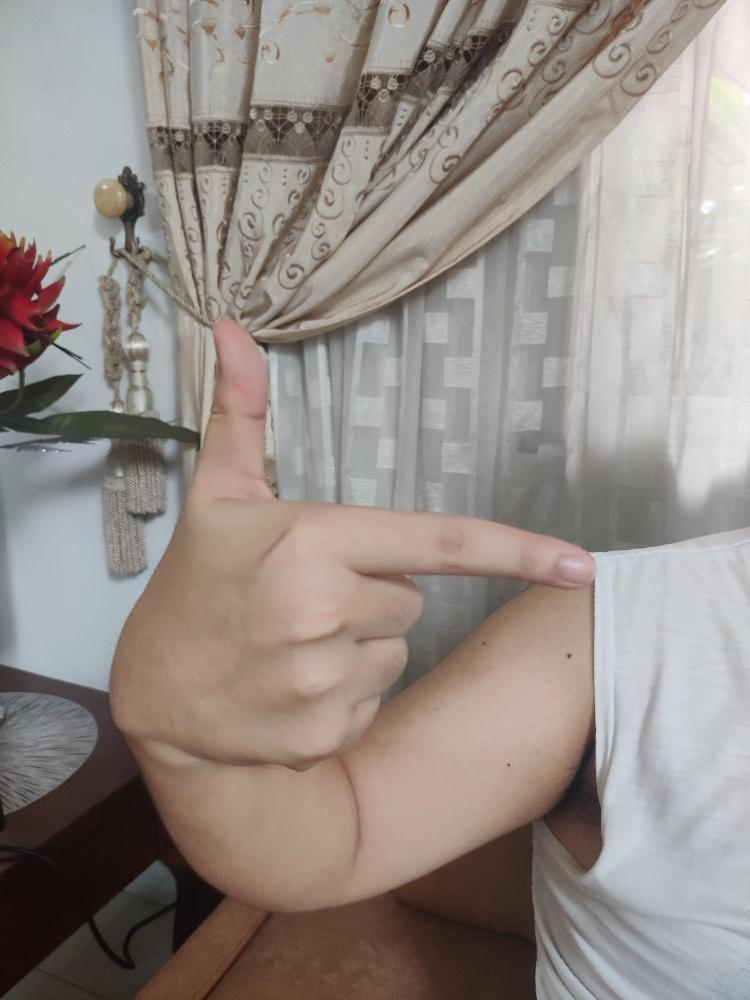g: (108, 315, 599, 776)
